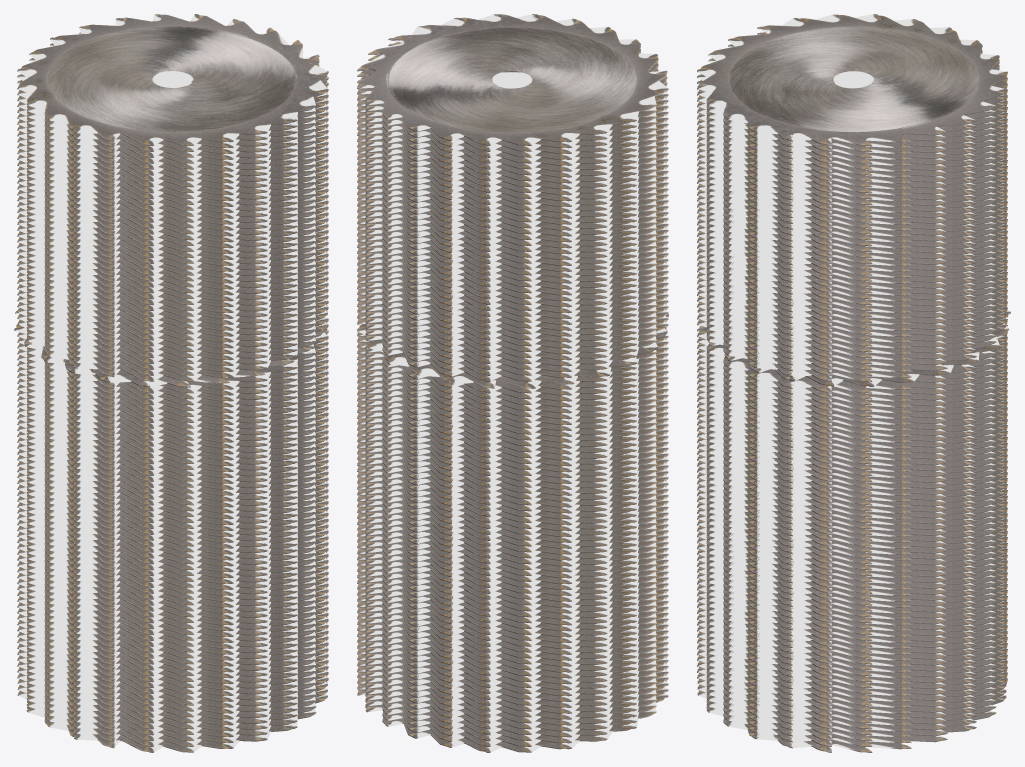
File: SawsBake.fbx
3 views of the same model, side by side, from view 1: azimuth 30°, elevation 25°; view 2: azimuth 150°, elevation 25°; view 3: azimuth 270°, elevation 25° (orthographic).
Visible parts, largest first — view 1: Plane; view 2: Plane; view 3: Plane.
Boxes of the visible parts, <box> form: Plane: <box>14,14,328,752</box>; Plane: <box>357,14,668,752</box>; Plane: <box>697,14,1010,752</box>.
Size of the model in its own units: 4.82 by 4.83 by 10.31.
